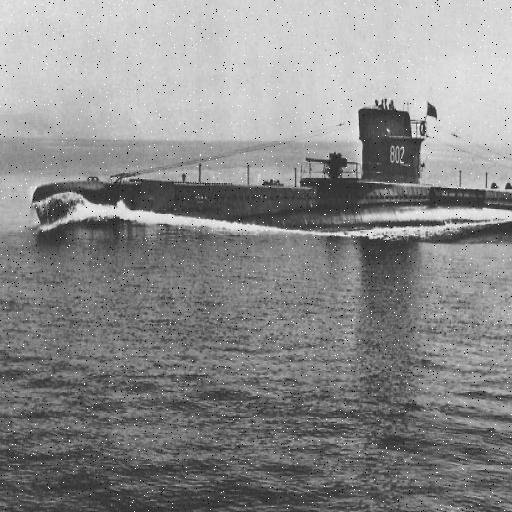submarine: (34, 90, 512, 234)
